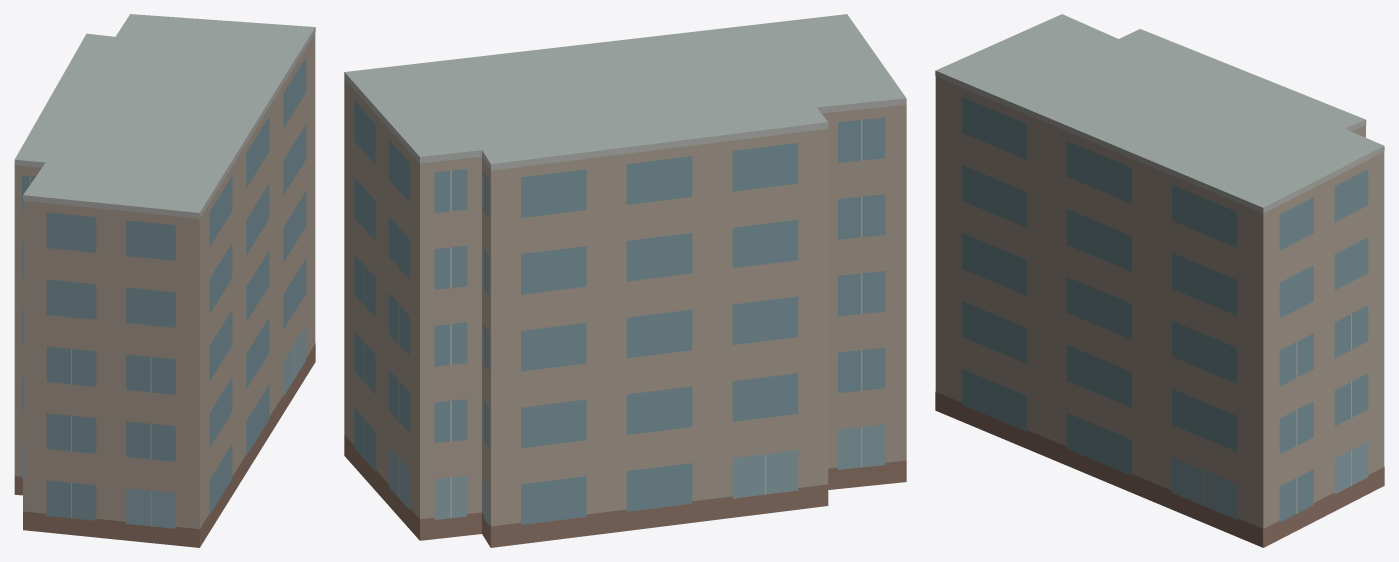
The model's file is survey-upis-32890121.glb.
3 views of the same model, side by side, from view 1: azimuth 30°, elevation 25°; view 2: azimuth 150°, elevation 25°; view 3: azimuth 270°, elevation 25° (orthographic). The views are drawn at different scales.
Parts seen in each view (by area): view 1: survey-upis-32890121.tmp; view 2: survey-upis-32890121.tmp; view 3: survey-upis-32890121.tmp.
Boxes of the visible parts, x1,y1,x2,y2 form: survey-upis-32890121.tmp: (14, 14, 315, 547); survey-upis-32890121.tmp: (344, 14, 906, 547); survey-upis-32890121.tmp: (935, 14, 1384, 547).
Bounding box in the file's own units: 17.75 × 14.5 × 17.36.
